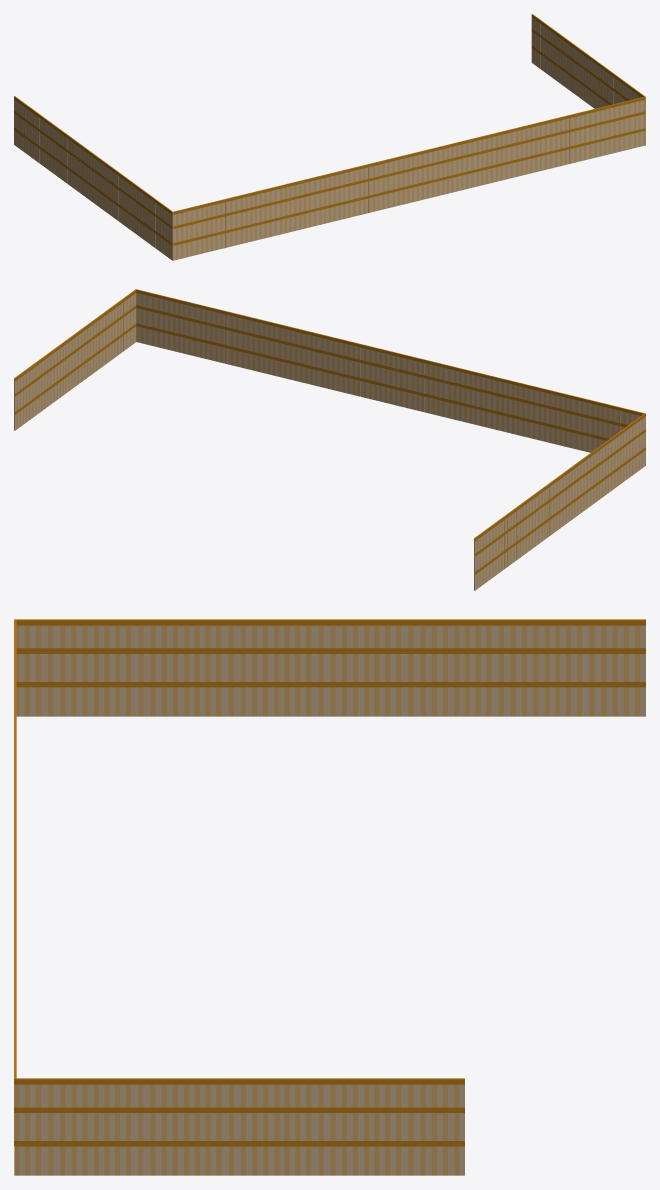
The model's file is Fence_v2.fbx.
3 views of the same model, one above another, from view 1: azimuth 30°, elevation 25°; view 2: azimuth 150°, elevation 25°; view 3: azimuth 270°, elevation 25° (orthographic). The views are drawn at different scales.
Visible parts, largest first — view 1: Fence__9_; view 2: Fence__9_; view 3: Fence__9_.
Part boxes in pixels (box(x1,y1,x2,y2)): Fence__9_: box(14, 14, 645, 260); Fence__9_: box(14, 289, 645, 590); Fence__9_: box(14, 619, 645, 1175).
Bounding box in the file's own units: 5900 × 578 × 3425.
